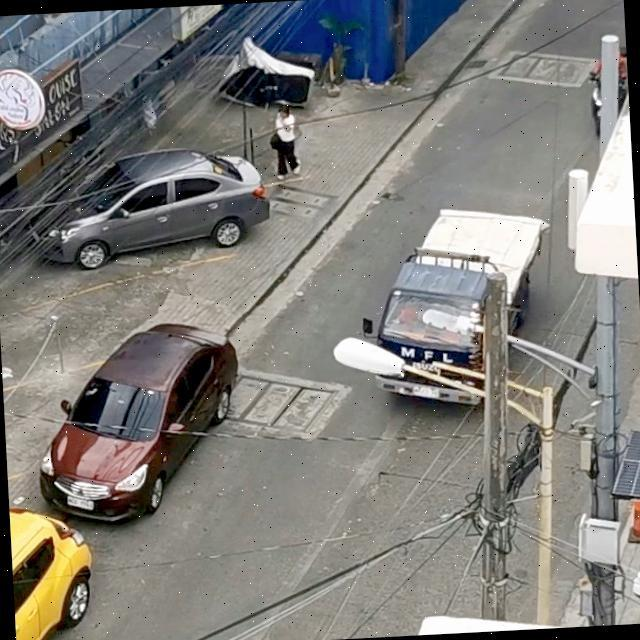Truck: (358, 184, 564, 423)
